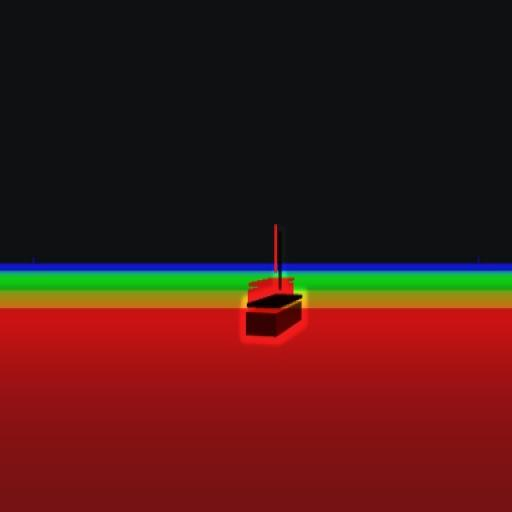vessel: (245, 238, 301, 336)
